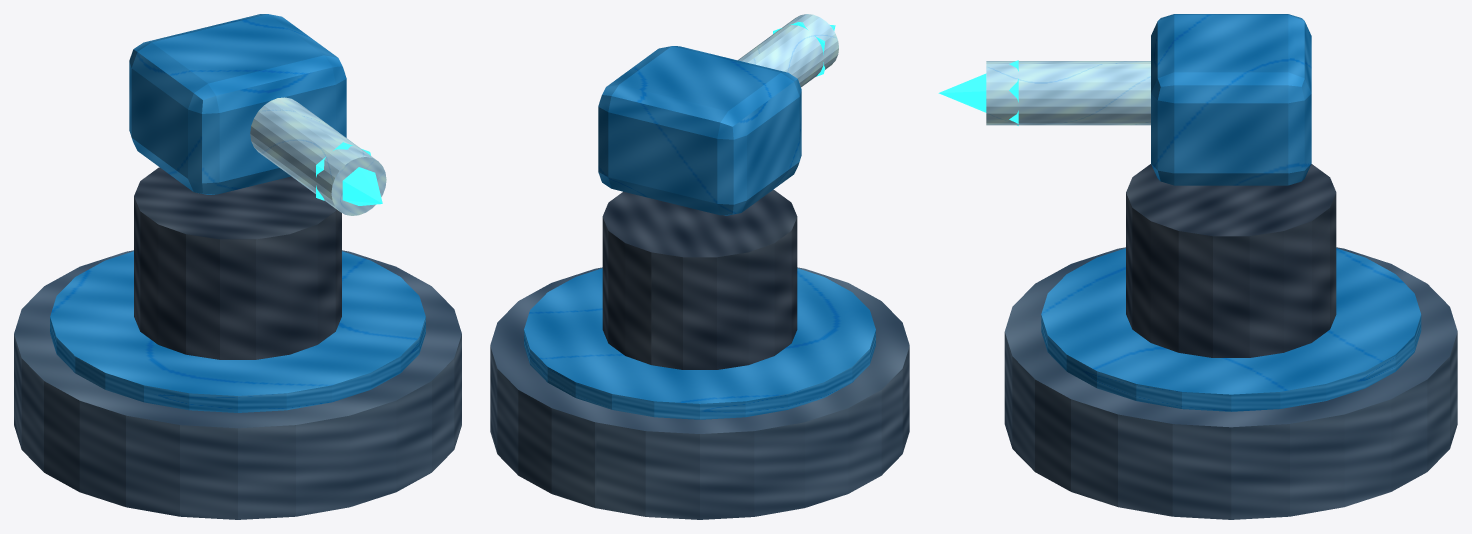
File: 01_SnowboltTurret.glb
The picture shows the model from 3 angles, left to right: view 1: azimuth 30°, elevation 25°; view 2: azimuth 150°, elevation 25°; view 3: azimuth 270°, elevation 25°; orthographic projection. The views are drawn at different scales.
Visible parts, largest first — view 1: Stand_Base, Stand_Pedestal, Stand_IceRing, Head_Housing, Head_SnowboltBarrel, Head_IceTip; view 2: Stand_Base, Stand_Pedestal, Head_Housing, Stand_IceRing, Head_SnowboltBarrel; view 3: Stand_Base, Stand_Pedestal, Stand_IceRing, Head_Housing, Head_SnowboltBarrel, Head_IceTip.
Part boxes in pixels (<box>): Stand_Base: <box>14,250,461,519</box>; Stand_Pedestal: <box>134,167,341,359</box>; Stand_IceRing: <box>50,251,425,412</box>; Head_Housing: <box>129,14,346,194</box>; Head_SnowboltBarrel: <box>250,97,386,215</box>; Head_IceTip: <box>316,142,382,205</box>; Stand_Base: <box>490,267,909,519</box>; Stand_Pedestal: <box>602,189,797,369</box>; Head_Housing: <box>598,46,801,215</box>; Stand_IceRing: <box>524,268,875,419</box>; Head_SnowboltBarrel: <box>738,14,838,87</box>; Stand_Base: <box>1004,247,1457,519</box>; Stand_Pedestal: <box>1126,164,1336,357</box>; Stand_IceRing: <box>1041,248,1421,411</box>; Head_Housing: <box>1151,14,1311,185</box>; Head_SnowboltBarrel: <box>986,61,1150,125</box>; Head_IceTip: <box>938,60,1018,125</box>.
Size of the model in its own units: 3.1 by 2.88 by 3.55.
Materials: 5 (4 with a texture image).
